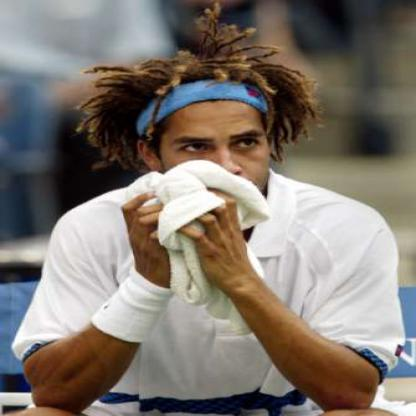face: (156, 69, 275, 218)
